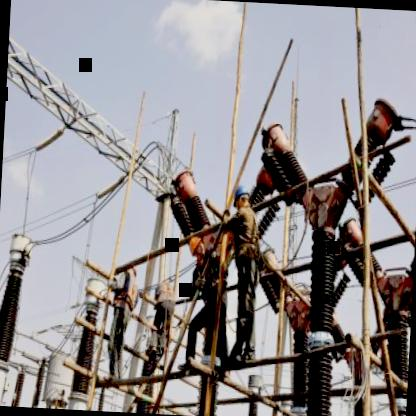helmet: (230, 181, 253, 213), (186, 233, 208, 258)
